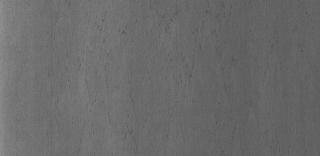silk spot: (85, 7, 242, 141)
